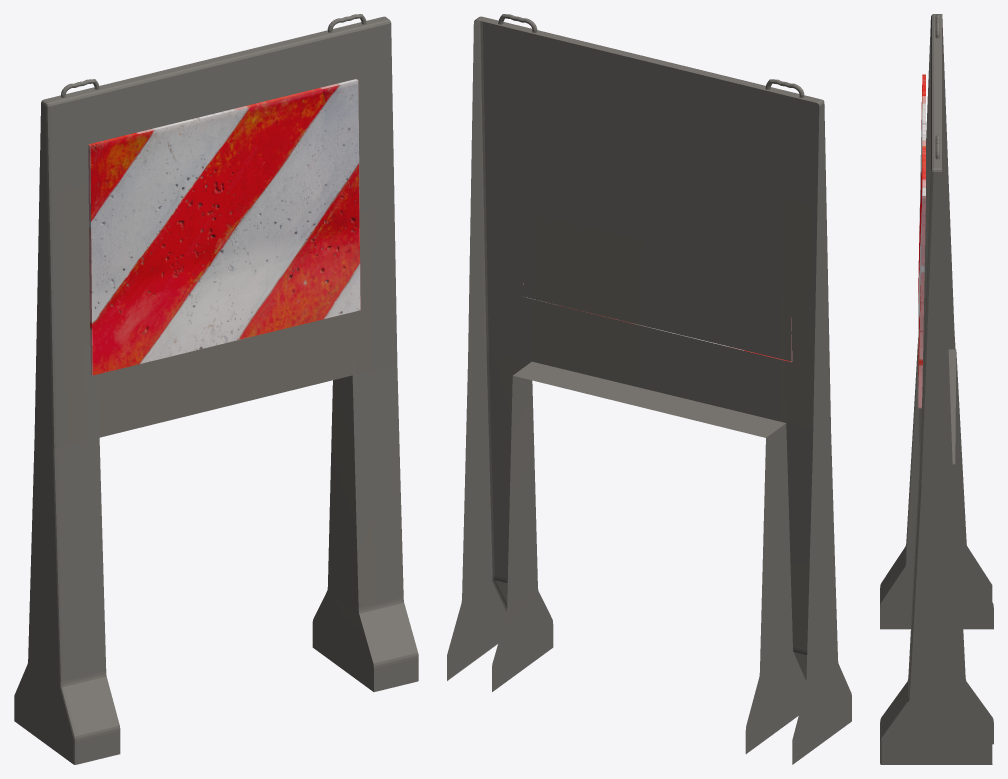
File: roll_barrier.glb
The picture shows the model from 3 angles, left to right: view 1: azimuth 30°, elevation 25°; view 2: azimuth 150°, elevation 25°; view 3: azimuth 270°, elevation 25°; orthographic projection. The views are drawn at different scales.
Parts seen in each view (by area): view 1: Plane; view 2: Plane; view 3: Plane.
Part boxes in pixels (<box>): Plane: <box>14,14,418,764</box>; Plane: <box>447,14,851,764</box>; Plane: <box>880,14,993,764</box>.
Bounding box in the file's own units: 1.38 × 2.5 × 0.4253.
Materials: 2 (2 with a texture image).
